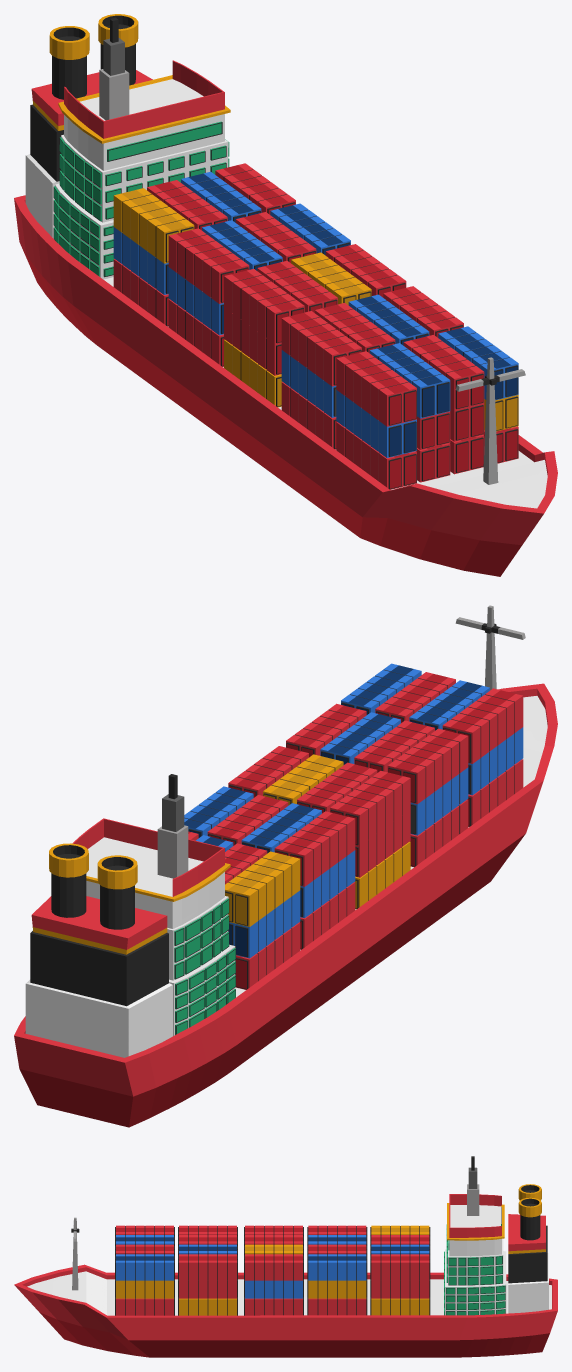
File: BigShip.glb
The picture shows the model from 3 angles, top to bottom: view 1: azimuth 30°, elevation 25°; view 2: azimuth 150°, elevation 25°; view 3: azimuth 270°, elevation 25°; orthographic projection. The views are drawn at different scales.
Visible parts, largest first — view 1: Boat 21.001; view 2: Boat 21.001; view 3: Boat 21.001.
Boxes of the visible parts, bbox=[...] form: Boat 21.001: bbox=[14, 14, 557, 576]; Boat 21.001: bbox=[14, 605, 557, 1127]; Boat 21.001: bbox=[14, 1156, 557, 1357].
Size of the model in its own units: 14 by 24.84 by 70.4.
1 material, 1 textured.
